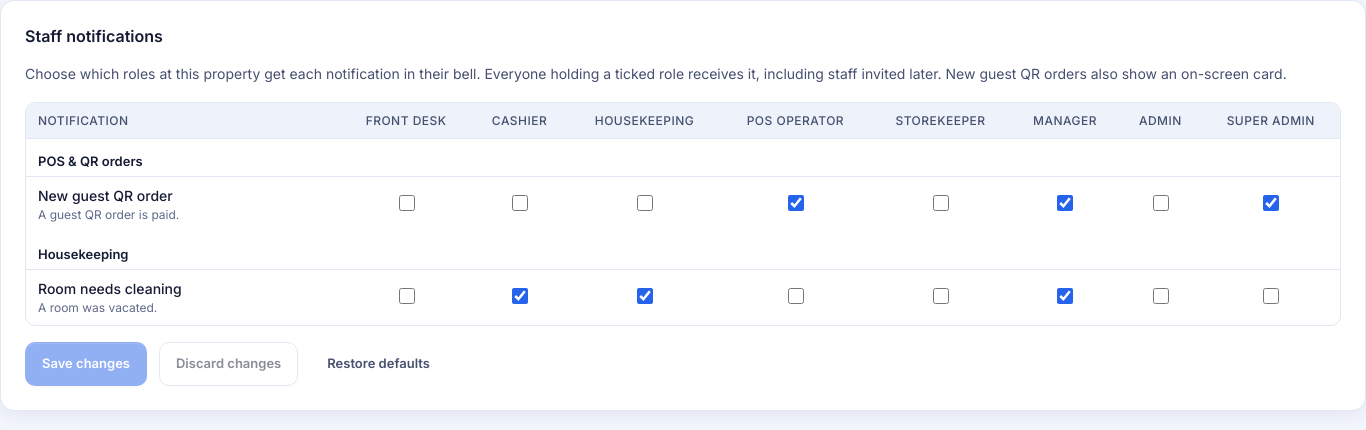
Test case: <NotificationsTab> › discards unsaved changes and restores defaults
Click the checkbox named "Room needs cleaning: Cashier" at (520,296), box 512,288 -> 528,304
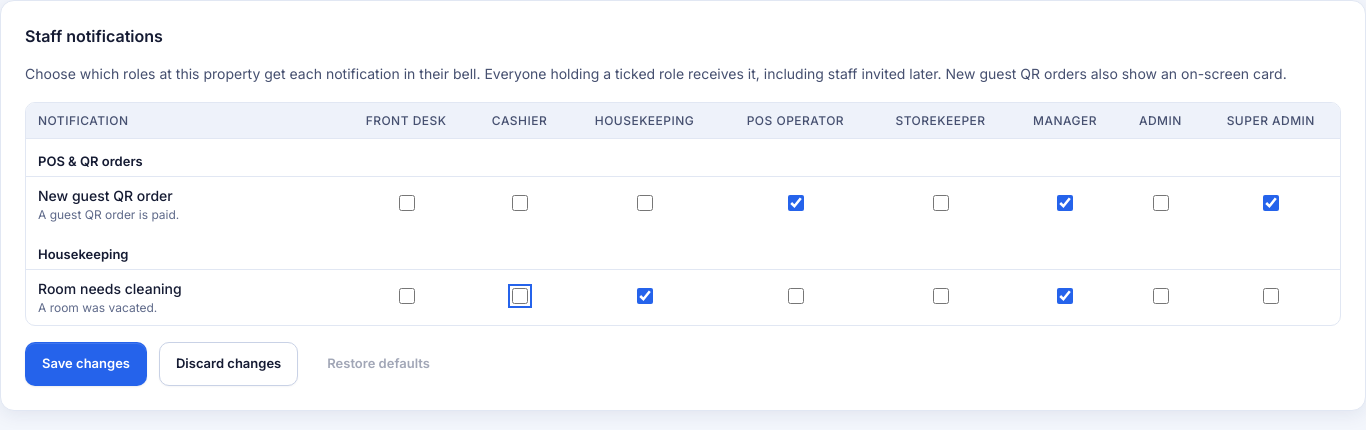
Expected: the checkbox named "Room needs cleaning: Cashier" is not checked, 512,288 -> 528,304
Click the button "Discard changes" at (229,364), box 159,342 -> 298,386
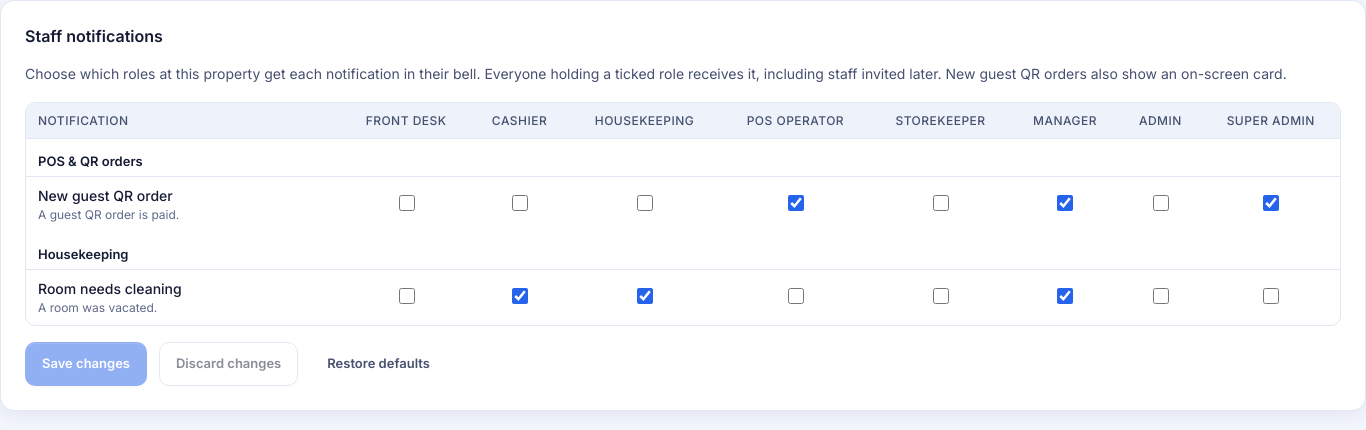
Expected: the checkbox named "Room needs cleaning: Cashier" is checked, 512,288 -> 528,304
Click the button "Restore defaults" at (379,364), box 310,342 -> 447,386
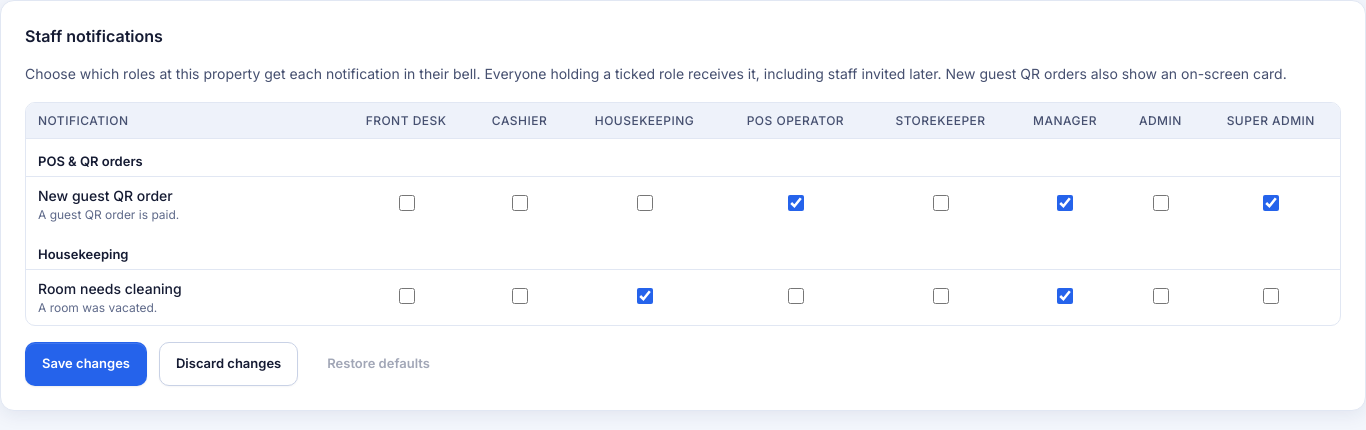
Expected: the checkbox named "Room needs cleaning: Cashier" is not checked, 512,288 -> 528,304
Expected: the button "Restore defaults" is disabled, 310,342 -> 447,386
